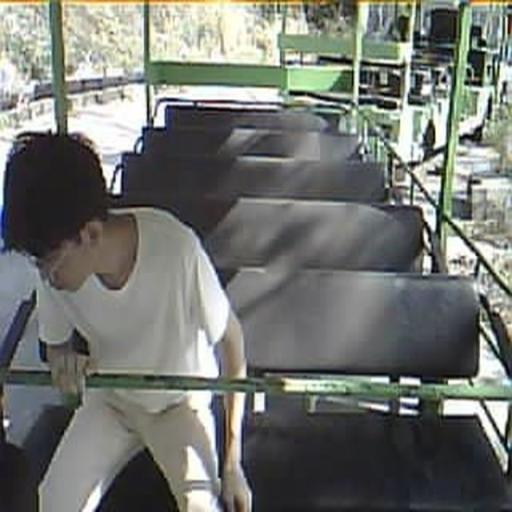persona: (2, 128, 253, 510)
